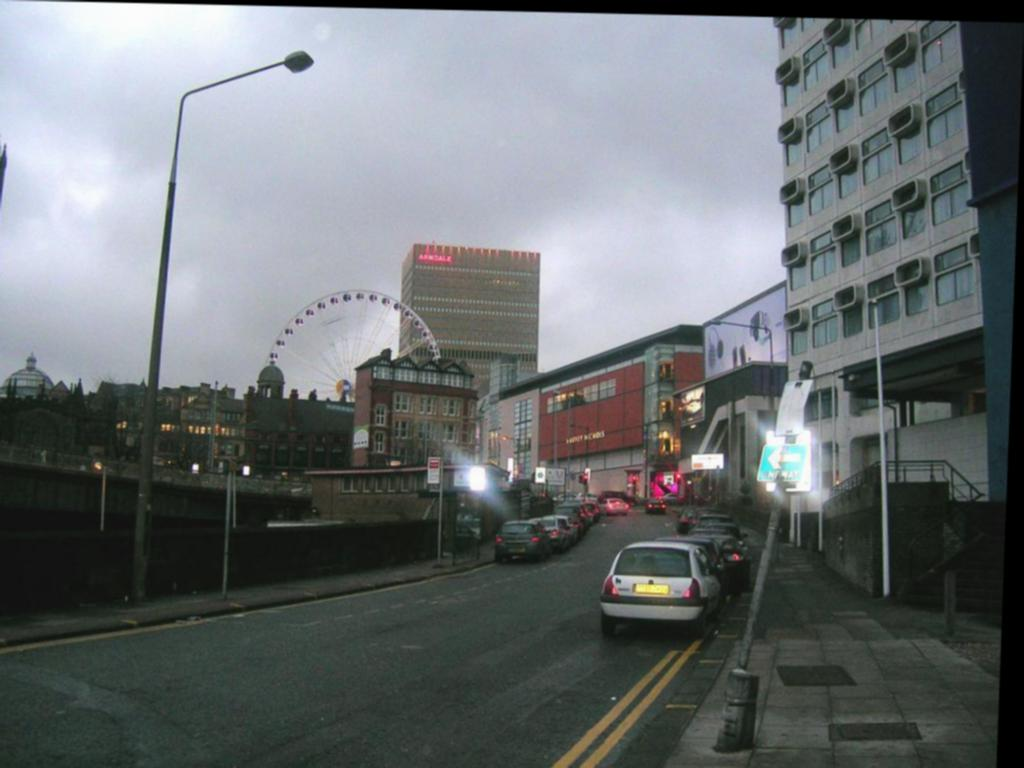License_Plate: (634, 582, 670, 595)
